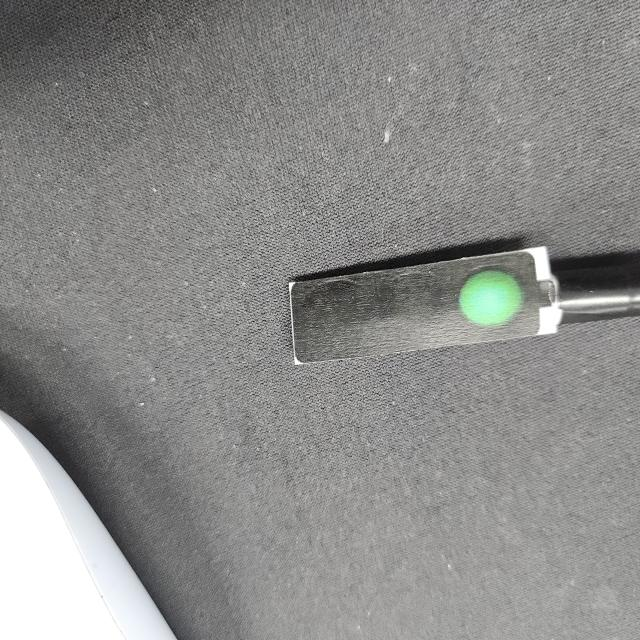traffic light: (293, 244, 561, 368)
